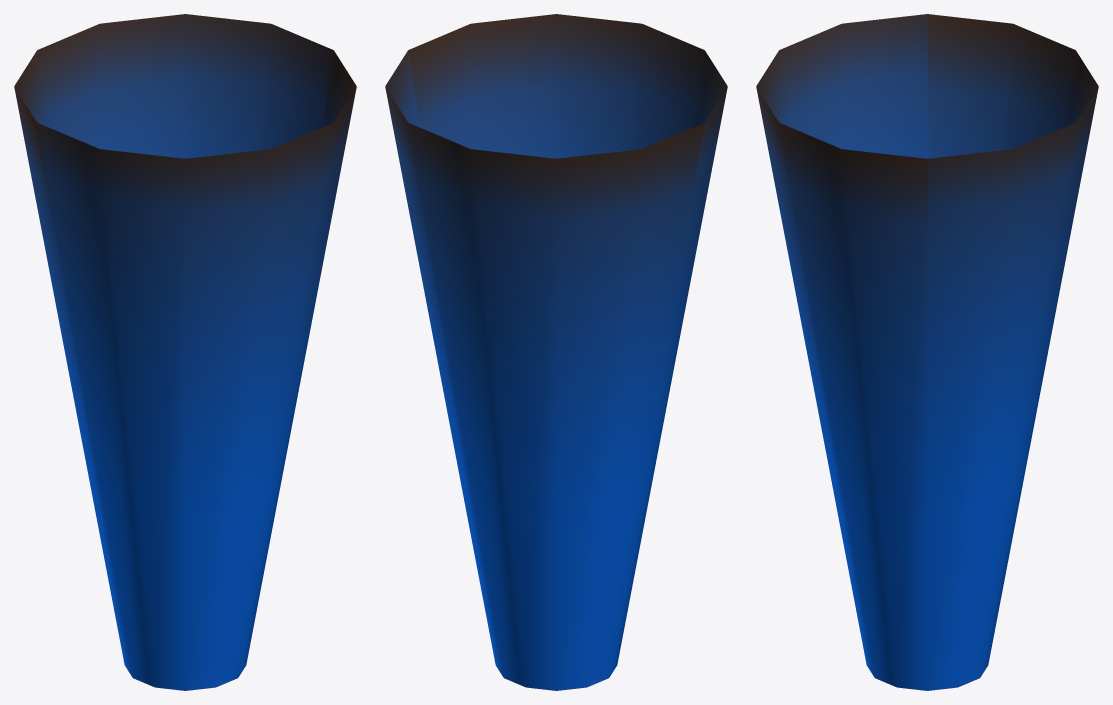
The model's file is Nitrous stand.fbx.
3 views of the same model, side by side, from view 1: azimuth 30°, elevation 25°; view 2: azimuth 150°, elevation 25°; view 3: azimuth 270°, elevation 25° (orthographic).
Parts seen in each view (by area): view 1: Nitrous_Stand; view 2: Nitrous_Stand; view 3: Nitrous_Stand.
Boxes of the visible parts, x1,y1,x2,y2 form: Nitrous_Stand: (14,14,356,690); Nitrous_Stand: (385,14,727,690); Nitrous_Stand: (756,14,1098,690).
Bounding box in the file's own units: 342 × 637 × 342.
Materials: 1 (1 with a texture image).
